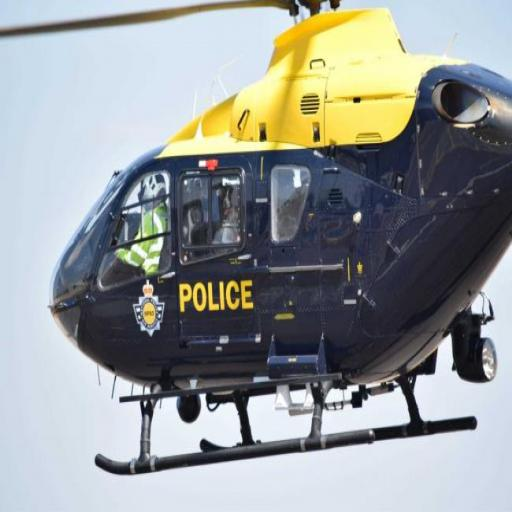helicopter: (9, 2, 508, 497)
